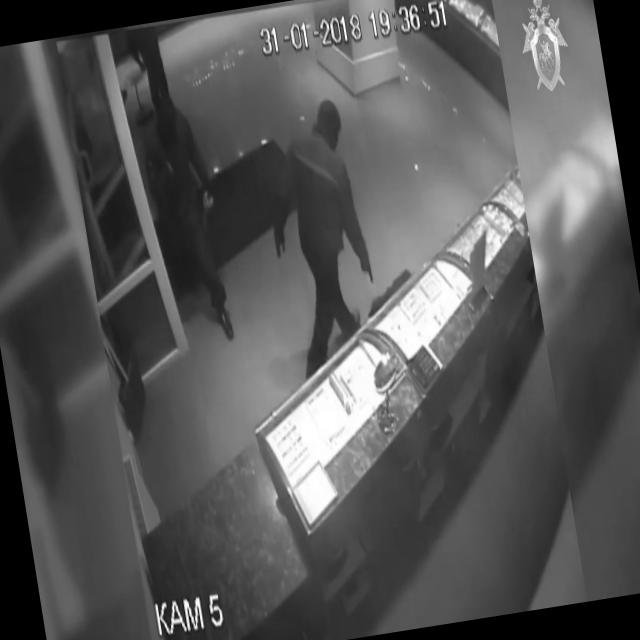gun: (358, 251, 375, 286)
person with a gun: (254, 98, 388, 381)
